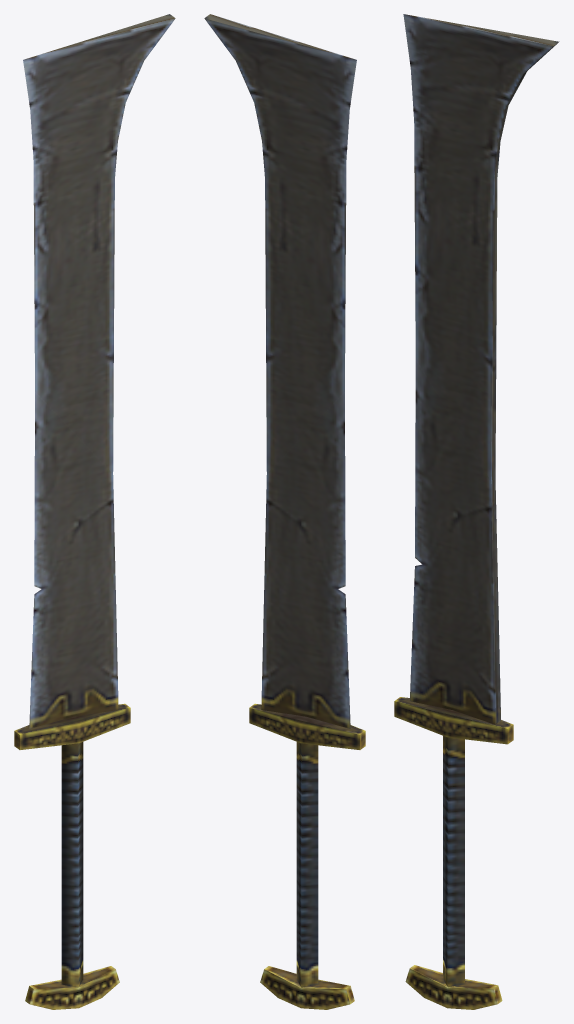
The model's file is TH_Sword01.FBX.
The picture shows the model from 3 angles, left to right: view 1: azimuth 30°, elevation 25°; view 2: azimuth 150°, elevation 25°; view 3: azimuth 330°, elevation 25°; orthographic projection. The views are drawn at different scales.
Parts seen in each view (by area): view 1: TH_Sword01; view 2: TH_Sword01; view 3: TH_Sword01.
Part boxes in pixels (box(x1,y1,x2,y2)): TH_Sword01: box(14, 14, 175, 1009); TH_Sword01: box(204, 14, 365, 1009); TH_Sword01: box(394, 14, 559, 1009).
Size of the model in its own units: 25.03 by 148 by 3.76.
